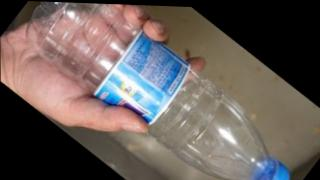plastic: (1, 2, 319, 179)
